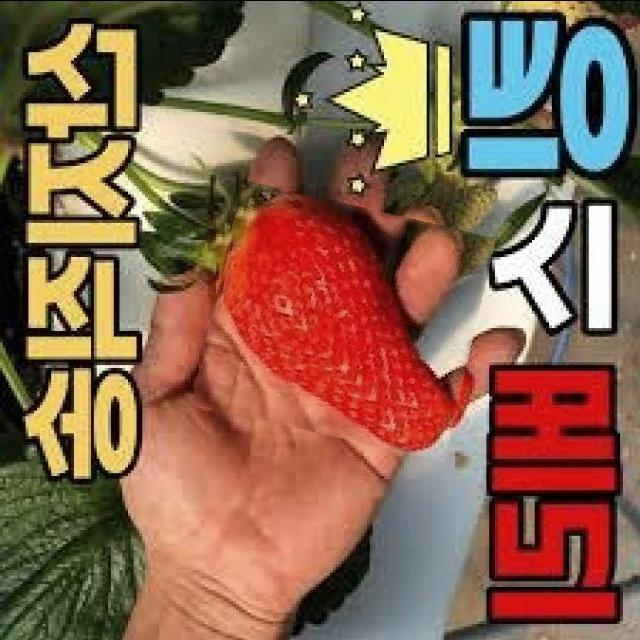strawberry: (202, 192, 486, 448)
